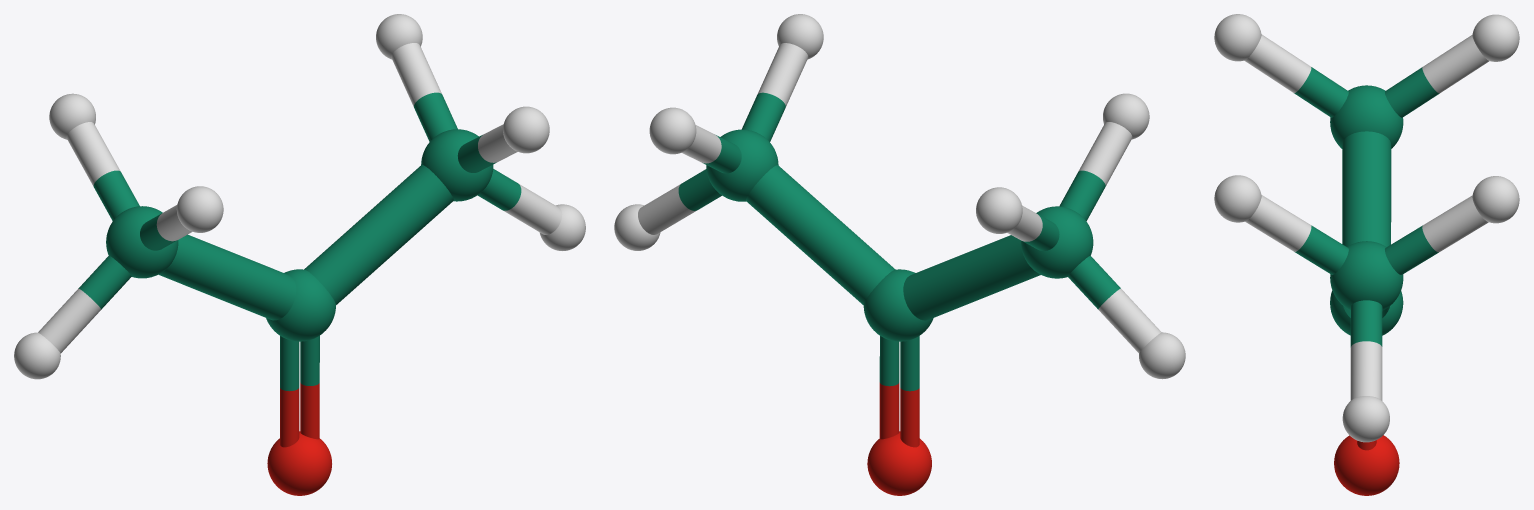
File: Acetone.glb
3 views of the same model, side by side, from view 1: azimuth 30°, elevation 25°; view 2: azimuth 150°, elevation 25°; view 3: azimuth 270°, elevation 25° (orthographic).
Size of the model in its own units: 4.6 by 3.04 by 2.12.
